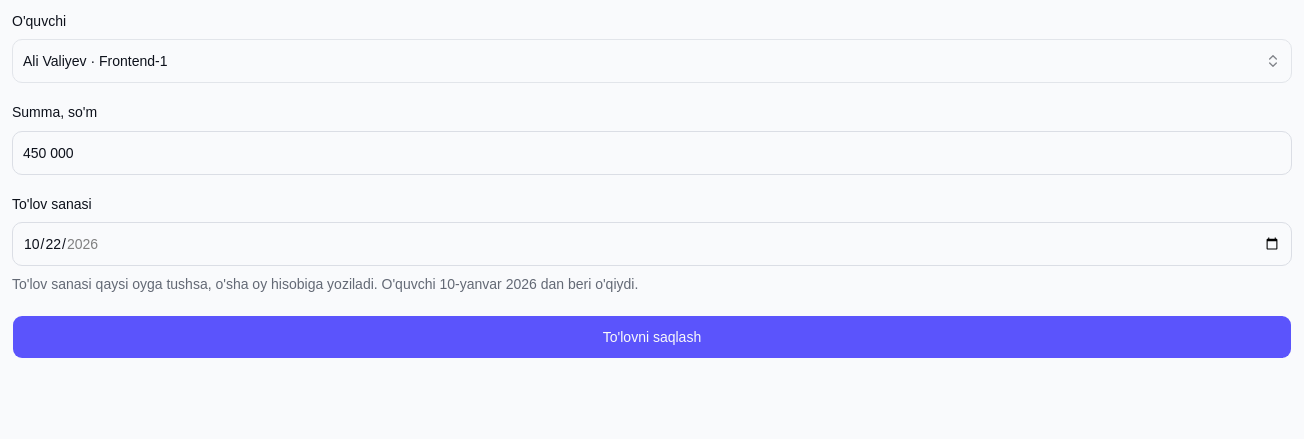
Test: PaymentForm › backend rad etsa uning xabarini formada ko'rsatadi
Step 1. Click the button "To'lovni saqlash" → (652, 337), box [12,315,1292,359]
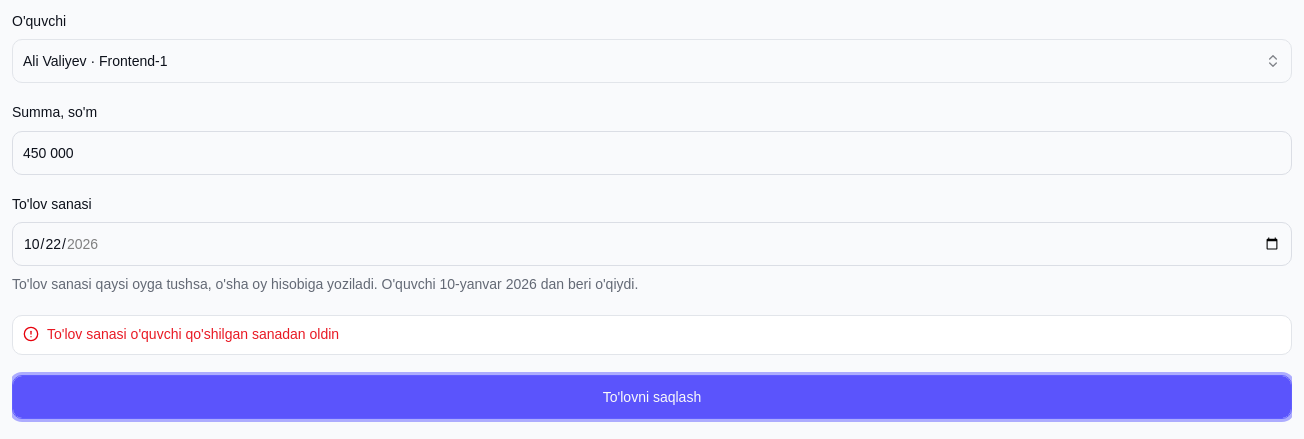
Expected: the text "To'lov sanasi o'quvchi qo'shilgan sanadan oldin" is shown, [47,326,339,342]
